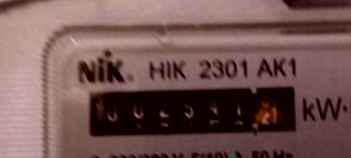0: (101, 97, 119, 123), (129, 94, 143, 121)
1: (229, 90, 242, 118)
2: (153, 93, 169, 119)
4: (205, 92, 218, 115)
5: (178, 92, 196, 120)
6: (256, 107, 271, 125)
screen: (75, 72, 309, 147)
